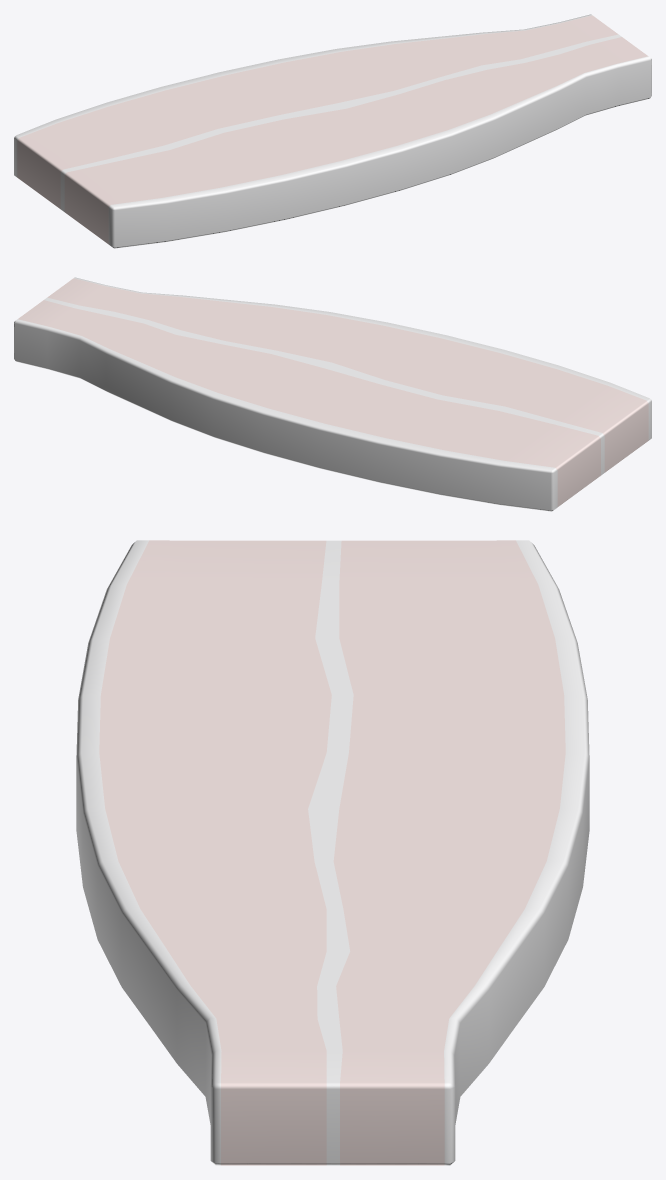
File: SeaBass_2_Fillet_2.fbx
The picture shows the model from 3 angles, top to bottom: view 1: azimuth 30°, elevation 25°; view 2: azimuth 150°, elevation 25°; view 3: azimuth 270°, elevation 25°; orthographic projection. The views are drawn at different scales.
Parts seen in each view (by area): view 1: SeaBass_2_Fillet_2; view 2: SeaBass_2_Fillet_2; view 3: SeaBass_2_Fillet_2.
Boxes of the visible parts, <box> form: SeaBass_2_Fillet_2: <box>14,14,651,248</box>; SeaBass_2_Fillet_2: <box>14,277,651,511</box>; SeaBass_2_Fillet_2: <box>76,540,589,1165</box>.
Size of the model in its own units: 68.23 by 4.83 by 27.08.
